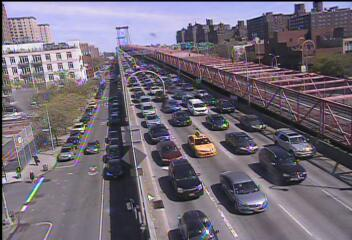neg: (184, 134, 198, 152), (160, 58, 172, 75), (219, 69, 230, 85), (153, 159, 164, 174), (281, 91, 292, 105), (286, 131, 297, 145), (102, 120, 112, 133), (299, 107, 309, 120), (191, 179, 200, 192), (233, 182, 242, 194), (87, 161, 96, 173), (190, 68, 199, 79), (101, 156, 109, 167), (258, 78, 266, 89), (246, 143, 254, 154), (99, 95, 107, 105), (312, 149, 320, 159), (264, 151, 271, 161), (259, 118, 265, 127), (113, 77, 119, 84), (229, 107, 234, 113), (137, 63, 141, 69)
pos: (28, 151, 39, 166), (10, 165, 21, 180), (23, 168, 34, 183)
